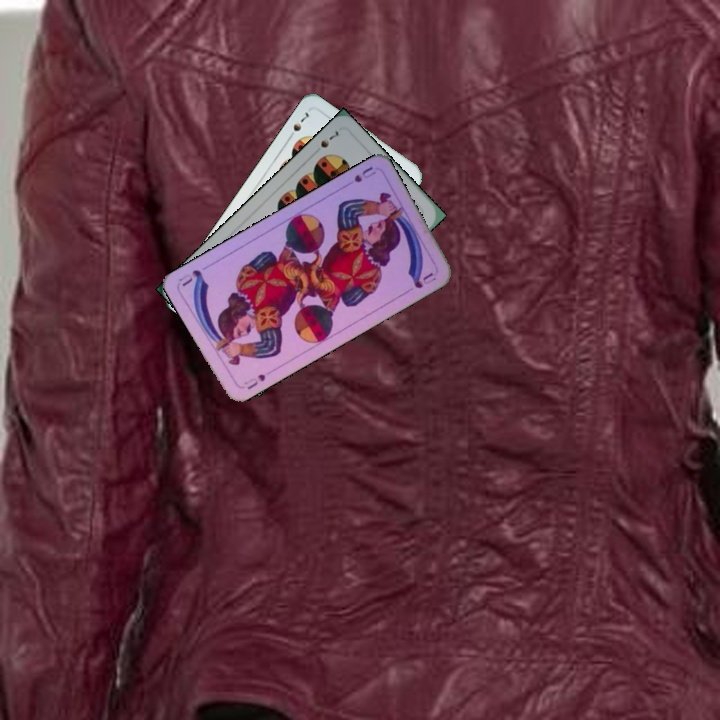S7: (284, 108, 312, 142), (317, 126, 341, 151)
SU: (350, 162, 378, 185), (240, 370, 268, 392)
